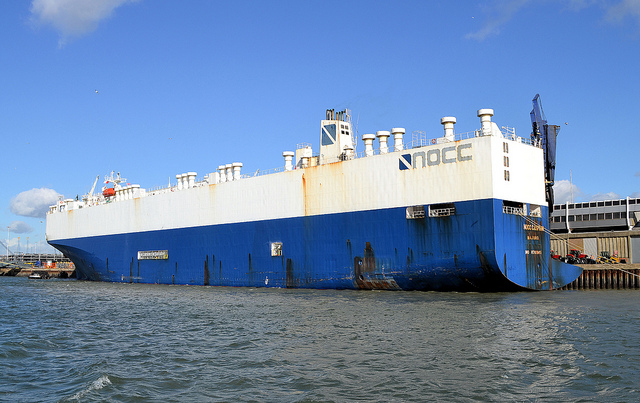PCC: (45, 109, 588, 292)
